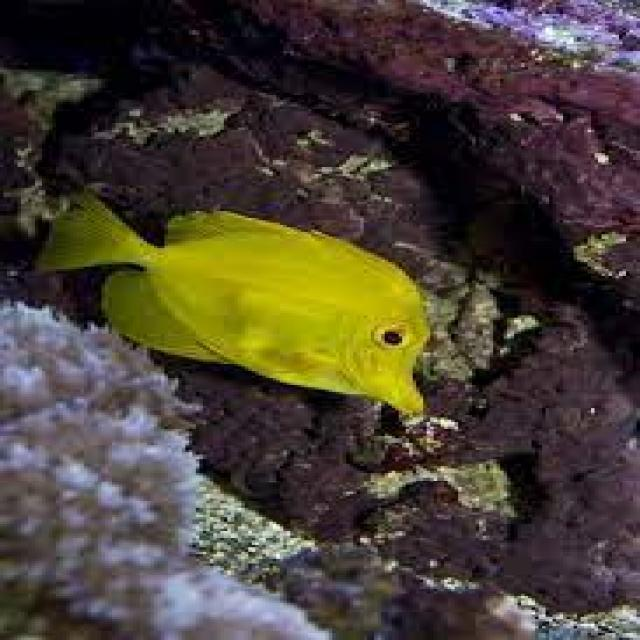TangFish: (33, 190, 433, 421)
